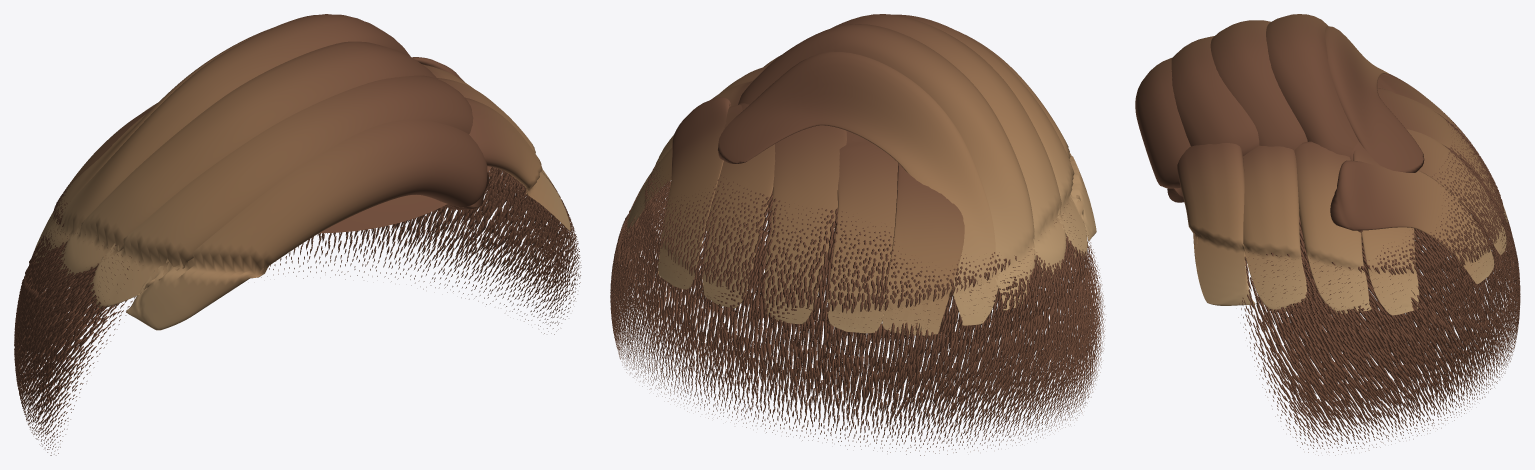
Rendered from Masculine-taper-headband254-hair-ombre.glb.
The picture shows the model from 3 angles, left to right: view 1: azimuth 30°, elevation 25°; view 2: azimuth 150°, elevation 25°; view 3: azimuth 270°, elevation 25°; orthographic projection. The views are drawn at different scales.
Visible parts, largest first — view 1: 226 hair / Hair252 / sculpted locks, 226 hair / Hair252 / gentle tonal variation, 226 hair / Hair254 / rooted short groom; view 2: 226 hair / Hair252 / sculpted locks, 226 hair / Hair254 / rooted short groom, 226 hair / Hair252 / gentle tonal variation; view 3: 226 hair / Hair252 / sculpted locks, 226 hair / Hair254 / rooted short groom, 226 hair / Hair252 / gentle tonal variation.
Part boxes in pixels (x1,y1,x2,y2): 226 hair / Hair252 / sculpted locks: (34,14,555,308); 226 hair / Hair252 / gentle tonal variation: (126,97,570,330); 226 hair / Hair254 / rooted short groom: (14,166,581,455); 226 hair / Hair252 / sculpted locks: (627,14,1087,335); 226 hair / Hair254 / rooted short groom: (610,162,1105,455); 226 hair / Hair252 / gentle tonal variation: (764,32,1096,333); 226 hair / Hair252 / sculpted locks: (1171,14,1507,315); 226 hair / Hair254 / rooted short groom: (1238,111,1520,455); 226 hair / Hair252 / gentle tonal variation: (1135,58,1472,305).
Size of the model in its own units: 0.9716 by 0.6881 by 0.7405.
